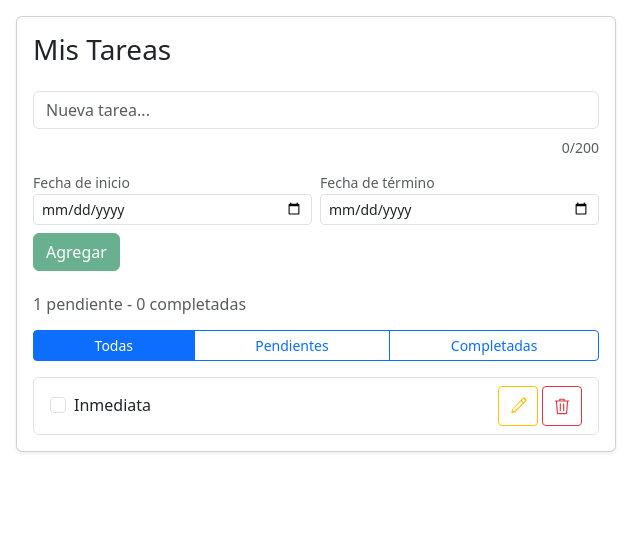
toggles instantly and rolls back when PUT fails
Later steps or results of the test are not shown.
Click the checkbox.
click(58, 405)  # box [50,397,66,413]
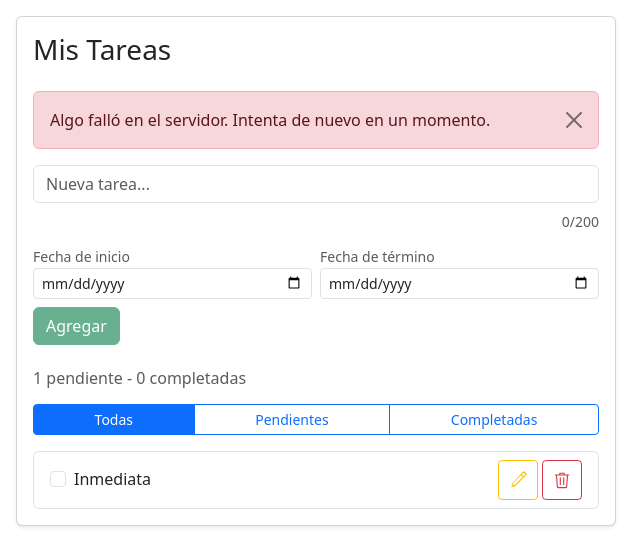
Check: the checkbox is not checked, box [50,471,66,487]
Check: the text "Algo falló en el servidor. Intenta de nuevo en un momento." is shown, box [33,91,599,149]
